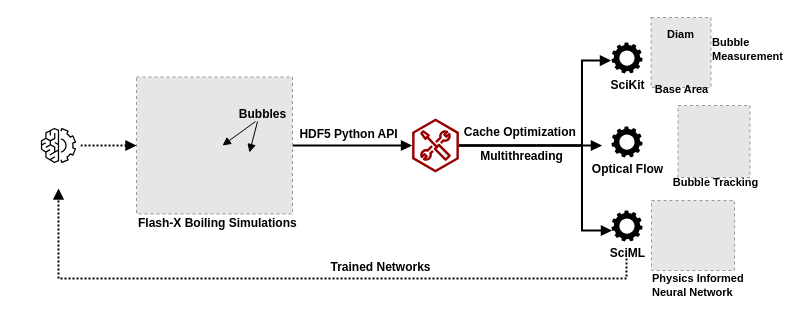
Image size: 807x318. Some labels were removed from this diagram. Grey dashed boxes stand in for pictures. Each missing label, with the centre of its shape:
"BoxKit" belongs at [435,145].
"Neural-Fortran" belongs at [58,145].
